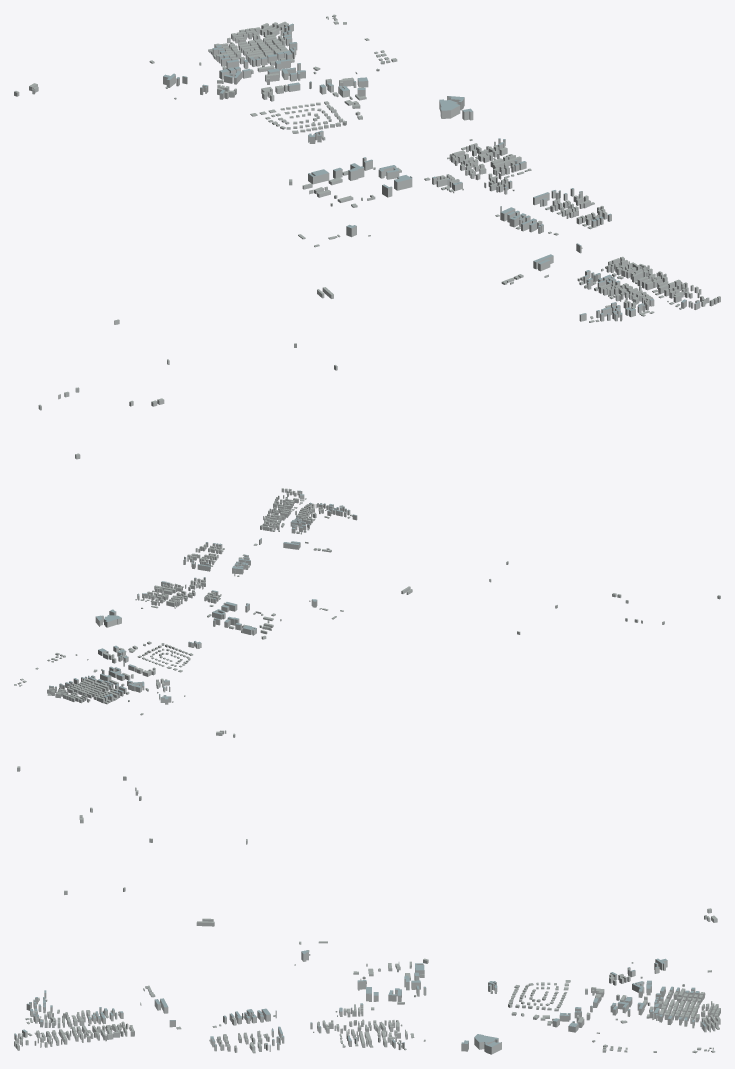
Rendered from far.glb.
3 views of the same model, one above another, from view 1: azimuth 30°, elevation 25°; view 2: azimuth 150°, elevation 25°; view 3: azimuth 270°, elevation 25° (orthographic). The views are drawn at different scales.
Size of the model in its own units: 2005 by 27.1 by 2103.
